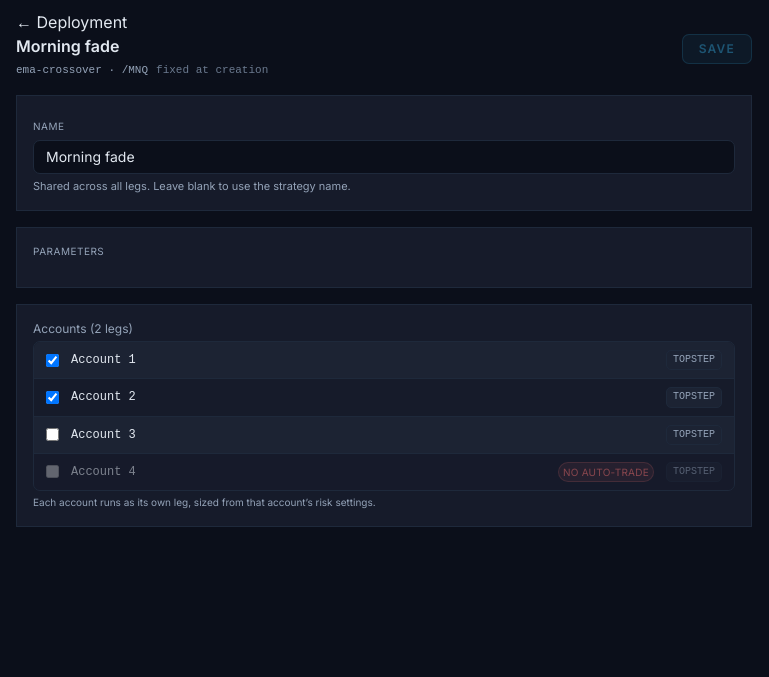
Test: DeploymentEditor — the partialConflict 409 › names a blocked account by its alias, as the picker does, while IDs are hidden
What coordinates should you click on to do the following:
click the checkbox labelled "Account 2 TOPSTEP"
I would click on:
 (52, 397)
Its box is [46, 391, 59, 404].
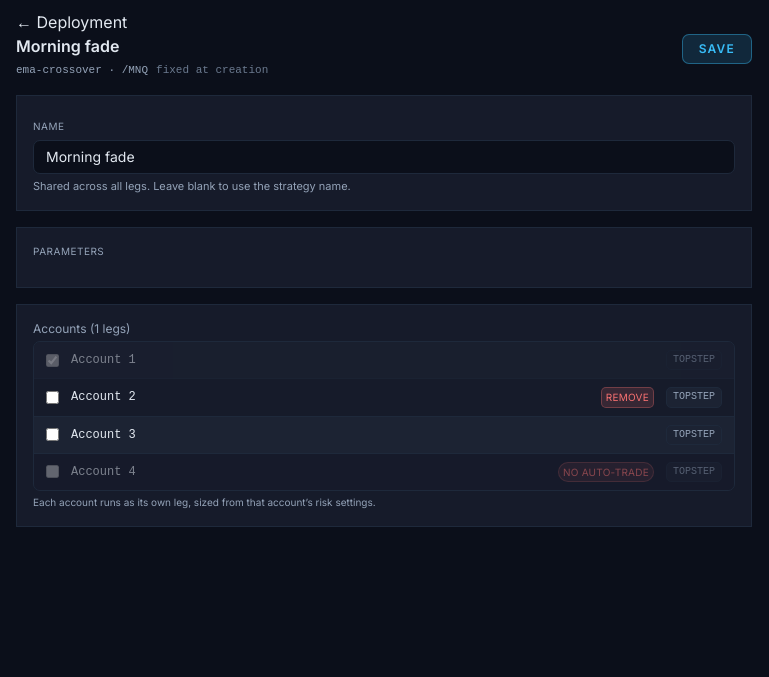
What coordinates should you click on to do the following:
click the button "Save"
I would click on:
 (717, 49)
Its box is [682, 34, 752, 64].
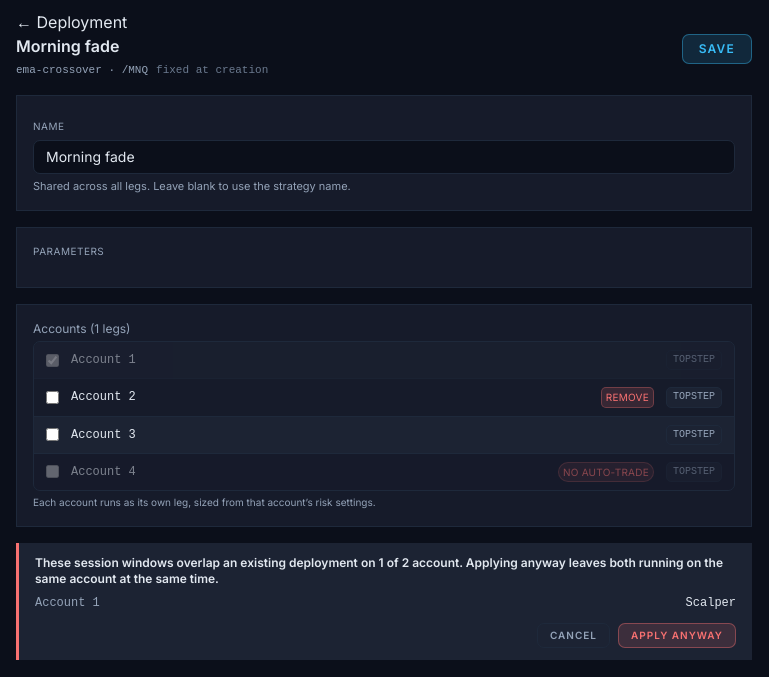
Result: the text with class "font-mono" in the row of "Scalper" reads "Account 1" at [35, 596, 100, 610]
